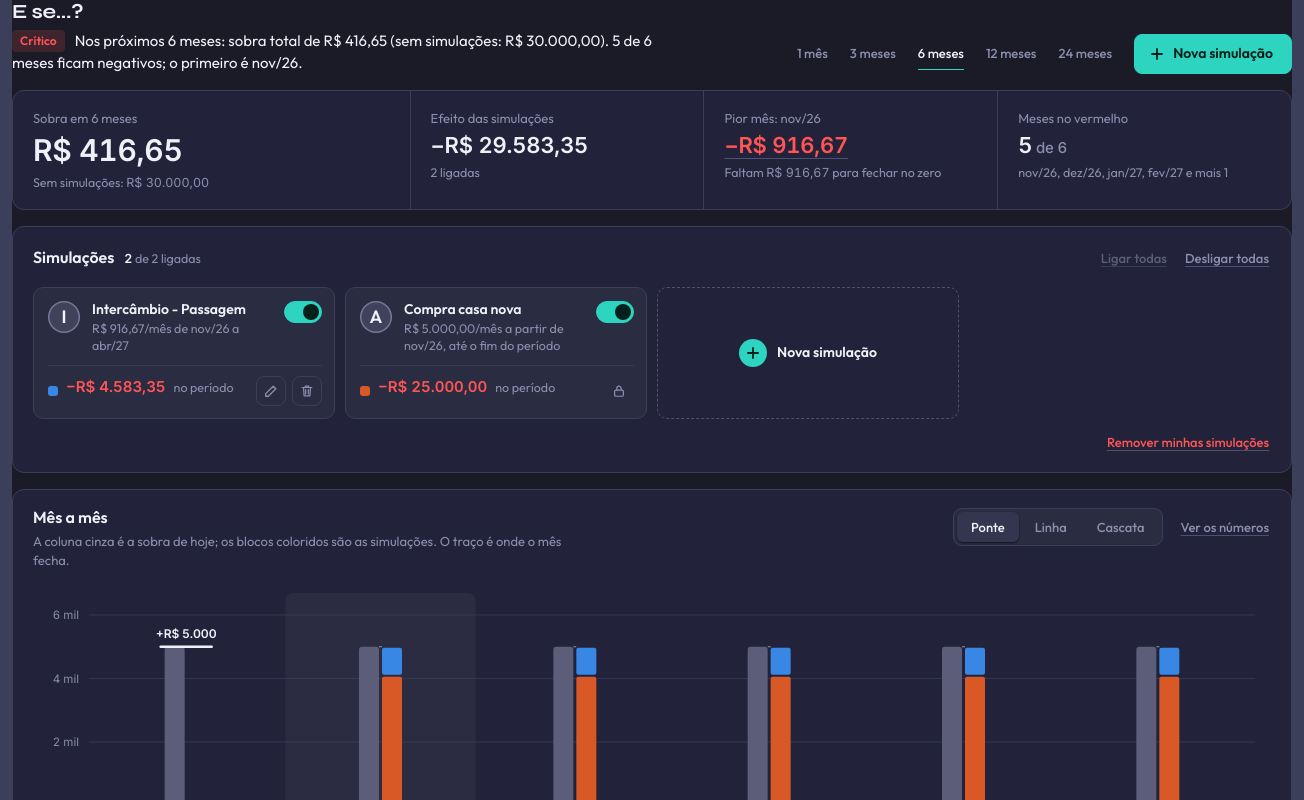
Test: WhatIfView: dados do back-end › troca entre ponte, linha e cascata; a cascata mostra a sobra de hoje e onde o mês fecha
Click the button "Linha".
click(1051, 528)  # box x1=1021 y1=512 x2=1081 y2=542
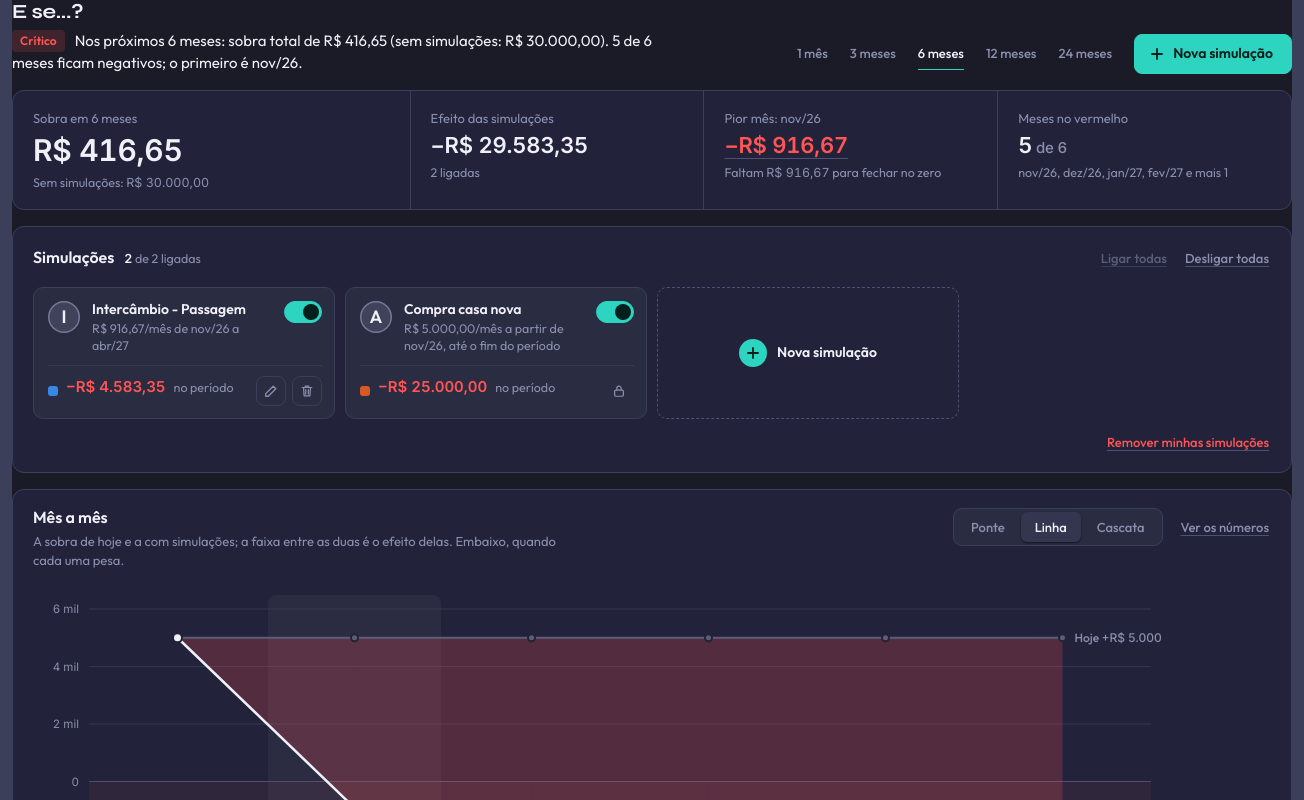
Click the button "Cascata".
click(1121, 528)  # box x1=1083 y1=512 x2=1158 y2=542
(page scrolled)
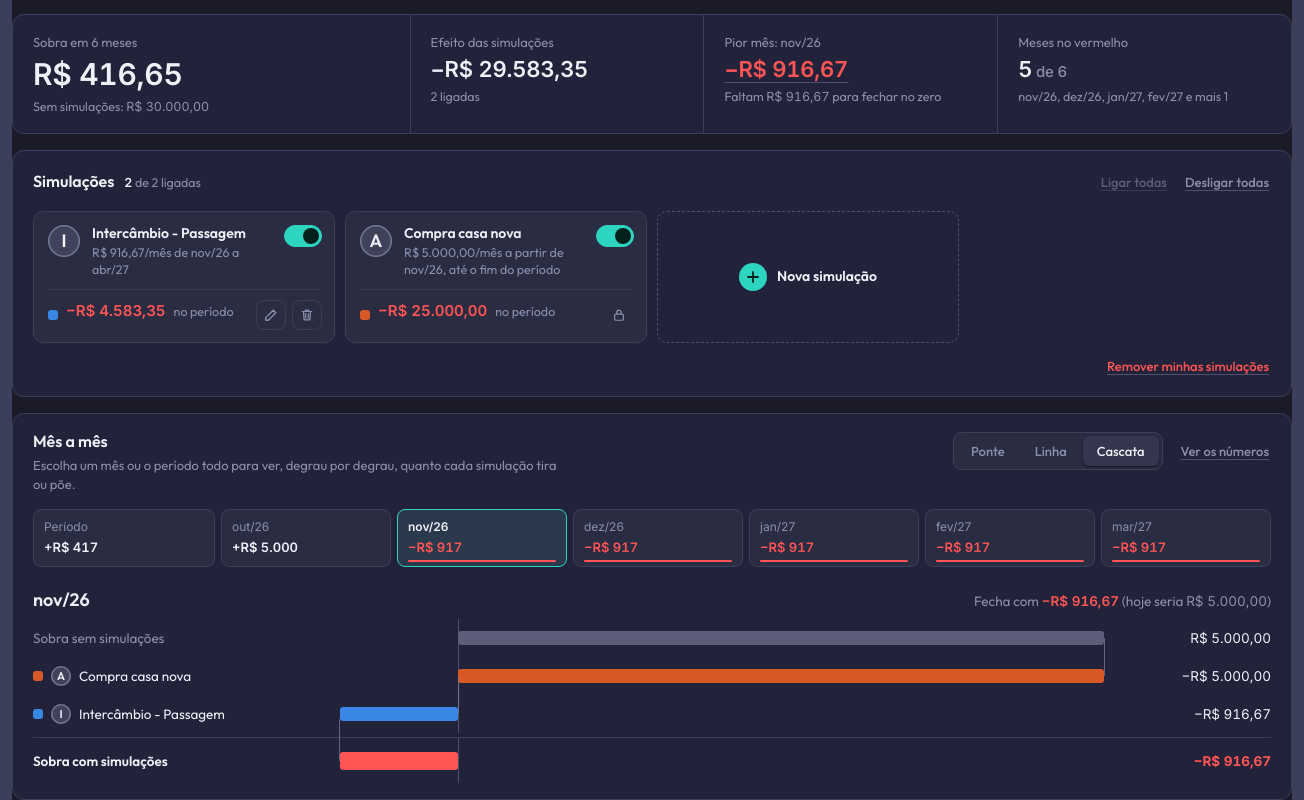
Check: the text "Sobra com simulações" is shown, box x1=33 y1=752 x2=168 y2=770
Check: the text "Sobra sem simulações" is shown, box x1=33 y1=629 x2=164 y2=647
